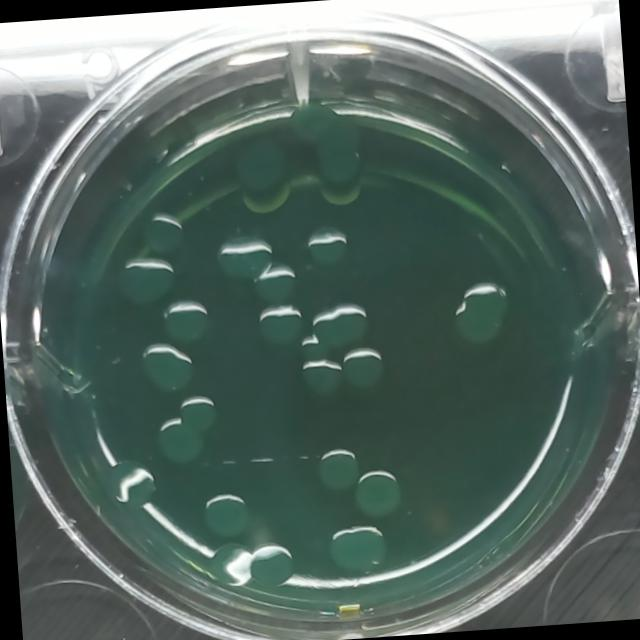vibrio: (229, 138, 296, 217), (450, 272, 516, 350), (205, 536, 296, 592), (324, 520, 389, 580), (134, 337, 196, 397), (114, 254, 176, 308), (311, 144, 365, 204), (212, 232, 274, 282), (100, 456, 156, 509), (350, 466, 404, 520), (197, 486, 252, 538), (311, 299, 370, 346), (288, 97, 340, 150), (161, 294, 212, 344), (256, 302, 306, 352), (155, 413, 205, 463), (303, 222, 352, 272), (138, 210, 188, 258), (340, 342, 387, 392), (314, 444, 358, 492), (252, 258, 298, 303), (174, 388, 222, 431), (298, 356, 342, 398)
